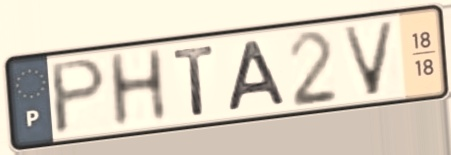2: (286, 28, 341, 110)
A: (225, 37, 290, 114)
H: (104, 44, 172, 132)
P: (48, 55, 110, 139)
T: (171, 42, 218, 119)
V: (338, 18, 400, 100)
